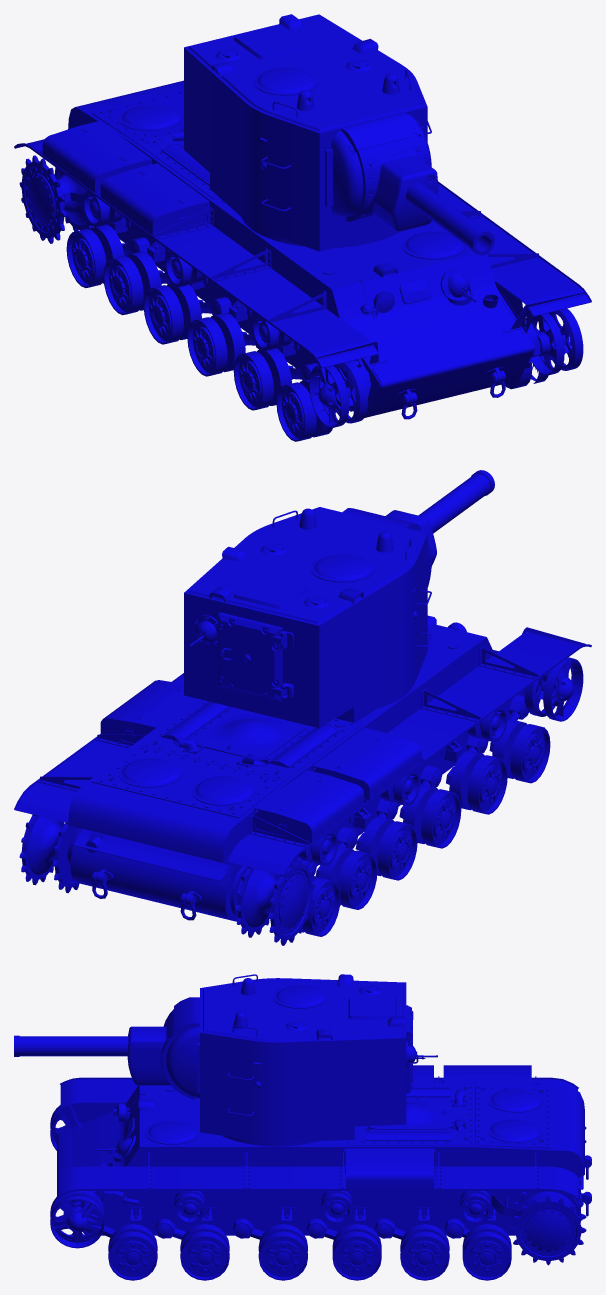
3 views of the same model, one above another, from view 1: azimuth 30°, elevation 25°; view 2: azimuth 150°, elevation 25°; view 3: azimuth 270°, elevation 25° (orthographic). The views are drawn at different scales.
Visible parts, largest first — view 1: Object_4; view 2: Object_4; view 3: Object_4.
Part boxes in pixels (box(x1,y1,x2,y2)): Object_4: box(14, 14, 591, 441); Object_4: box(14, 470, 591, 945); Object_4: box(14, 974, 591, 1280).
Size of the model in its own units: 3.07 by 3.03 by 6.74.
